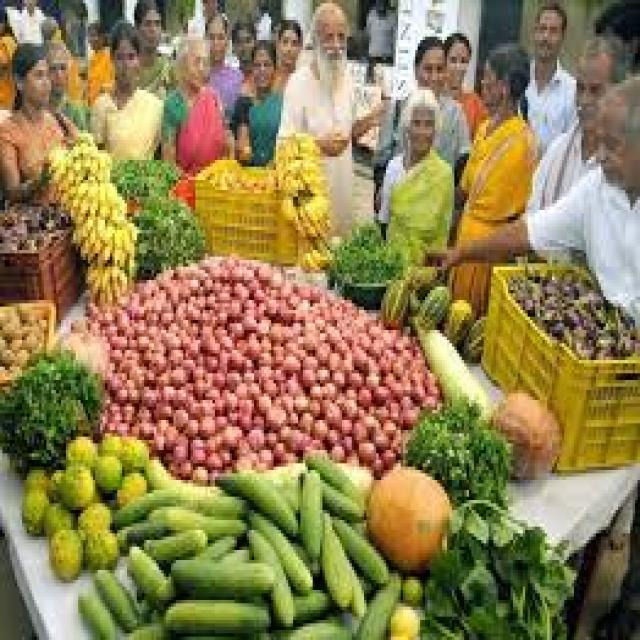biodegradable: (420, 493, 574, 637), (291, 327, 440, 450), (47, 123, 130, 300), (144, 310, 244, 447), (98, 333, 239, 427), (0, 343, 98, 470), (401, 397, 511, 503), (222, 300, 298, 450), (411, 303, 494, 427), (364, 460, 449, 573), (410, 310, 491, 423), (271, 280, 320, 447), (108, 480, 247, 530), (494, 387, 560, 480), (130, 193, 201, 277), (213, 463, 293, 537), (247, 504, 310, 594), (154, 530, 234, 600), (320, 503, 366, 617), (134, 267, 225, 323), (193, 280, 300, 327), (332, 217, 406, 283), (161, 593, 269, 637), (166, 557, 274, 600), (330, 510, 386, 587), (0, 296, 51, 380), (274, 153, 330, 227), (300, 444, 364, 504), (68, 297, 142, 347), (191, 257, 269, 300), (0, 200, 64, 250), (352, 573, 401, 637), (90, 567, 137, 633), (139, 517, 205, 563), (151, 507, 242, 540), (125, 534, 166, 604), (269, 607, 352, 637), (112, 153, 176, 190), (288, 183, 330, 237), (298, 464, 322, 554), (274, 130, 323, 173), (142, 450, 198, 487), (318, 477, 364, 520), (56, 457, 93, 510), (76, 587, 115, 637), (115, 517, 166, 553), (47, 523, 81, 577), (205, 167, 274, 193), (288, 584, 332, 624), (147, 527, 205, 557), (320, 293, 366, 327), (333, 457, 372, 497), (415, 283, 447, 330), (376, 274, 406, 324), (73, 497, 110, 537), (81, 527, 115, 567), (76, 330, 110, 370), (284, 617, 350, 637), (19, 483, 49, 527), (288, 530, 318, 573), (110, 464, 142, 504), (445, 297, 469, 347), (90, 453, 120, 490), (41, 497, 71, 533), (271, 470, 296, 513), (115, 430, 147, 463), (388, 603, 418, 637), (462, 307, 481, 360), (64, 434, 96, 464), (296, 243, 330, 270), (405, 264, 435, 294), (42, 460, 64, 497), (59, 327, 86, 350), (398, 570, 418, 600), (217, 540, 247, 560), (125, 620, 159, 637), (96, 427, 118, 453), (264, 400, 283, 427), (198, 330, 217, 357), (320, 437, 344, 457), (191, 460, 208, 487), (223, 420, 240, 447), (284, 423, 301, 447), (352, 433, 369, 457), (381, 443, 398, 467), (225, 343, 242, 367), (367, 450, 384, 473), (205, 443, 220, 467), (274, 447, 296, 463), (232, 447, 249, 467), (169, 437, 183, 460), (342, 447, 357, 467), (376, 434, 391, 454), (195, 414, 210, 434), (283, 374, 298, 394), (254, 440, 271, 457), (188, 443, 205, 460), (176, 453, 188, 477), (391, 424, 405, 444), (181, 414, 195, 434), (281, 350, 295, 370), (323, 347, 337, 367), (379, 417, 391, 437), (25, 463, 42, 477), (223, 440, 235, 457), (298, 430, 313, 443), (210, 410, 220, 427), (271, 437, 281, 453), (164, 450, 171, 470), (310, 434, 320, 444)
